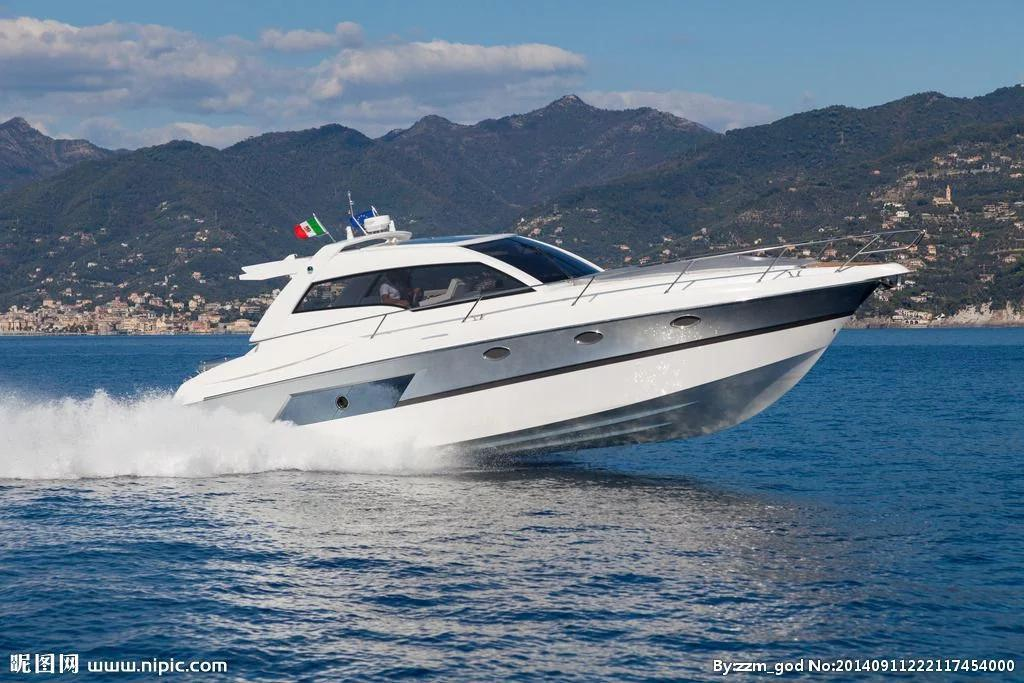yacht: (157, 193, 917, 487)
